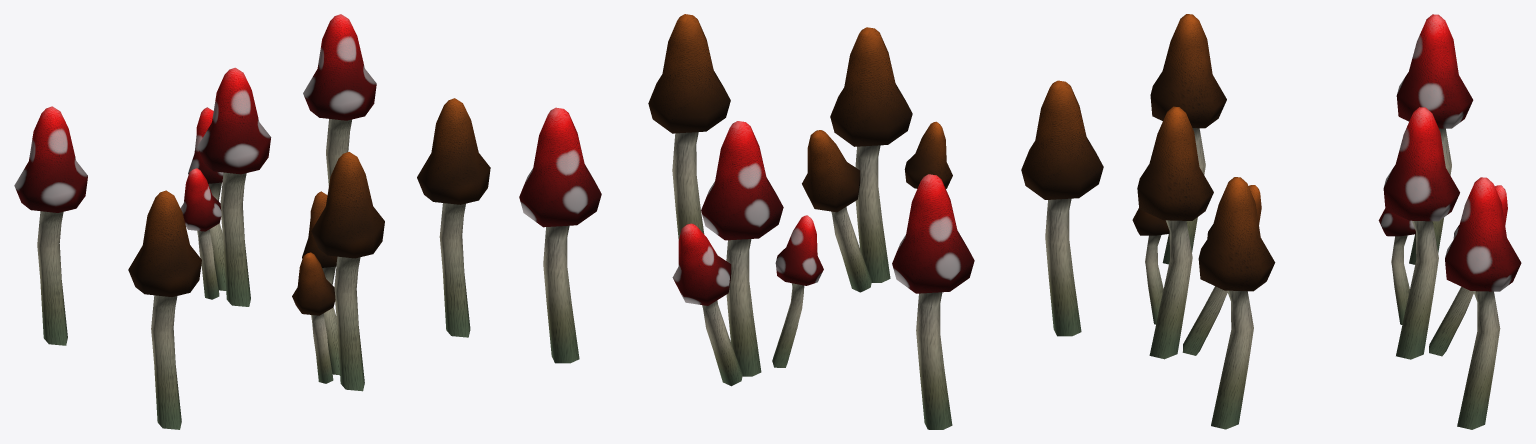
File: mushrooms.glb
3 renders of one model, left to right at view 1: azimuth 30°, elevation 25°; view 2: azimuth 150°, elevation 25°; view 3: azimuth 270°, elevation 25°, orthographic. The views are drawn at different scales.
Parts seen in each view (by area): view 1: mushroom-brown-3, mushroom-red-3, mushroom-brown-1, mushroom-brown-2, mushroom-red-2, mushroom-red-1; view 2: mushroom-red-3, mushroom-brown-3, mushroom-brown-2, mushroom-red-1, mushroom-red-2, mushroom-brown-1; view 3: mushroom-brown-3, mushroom-red-3, mushroom-red-1, mushroom-brown-1, mushroom-brown-2, mushroom-red-2.
Part boxes in pixels (bbox=[...]): mushroom-brown-3: bbox=[292, 152, 384, 391]; mushroom-red-3: bbox=[180, 67, 271, 306]; mushroom-brown-1: bbox=[417, 98, 490, 337]; mushroom-brown-2: bbox=[128, 190, 201, 429]; mushroom-red-2: bbox=[14, 106, 87, 345]; mushroom-red-1: bbox=[303, 14, 376, 186]; mushroom-red-3: bbox=[672, 121, 823, 386]; mushroom-brown-3: bbox=[802, 27, 952, 292]; mushroom-brown-2: bbox=[1021, 80, 1103, 336]; mushroom-red-1: bbox=[519, 107, 601, 363]; mushroom-red-2: bbox=[892, 174, 974, 429]; mushroom-brown-1: bbox=[648, 14, 730, 240]; mushroom-brown-3: bbox=[1132, 106, 1261, 359]; mushroom-red-3: bbox=[1378, 107, 1507, 359]; mushroom-red-1: bbox=[1445, 177, 1521, 429]; mushroom-brown-1: bbox=[1198, 177, 1275, 429]; mushroom-brown-2: bbox=[1150, 14, 1226, 264]; mushroom-red-2: bbox=[1396, 14, 1473, 264].
Bounding box in the file's own units: 1.32 × 0.7757 × 1.11.
Materials: 2 (2 with a texture image).
